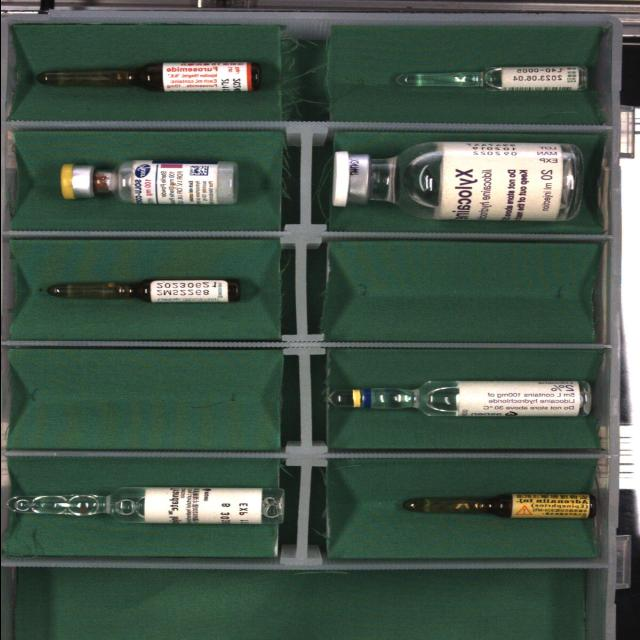Ampoules: (8, 487, 283, 524), (326, 380, 590, 417), (36, 62, 257, 92), (402, 493, 594, 518), (395, 66, 586, 91), (45, 279, 238, 302)
Vials: (332, 141, 581, 221), (60, 160, 236, 204)
